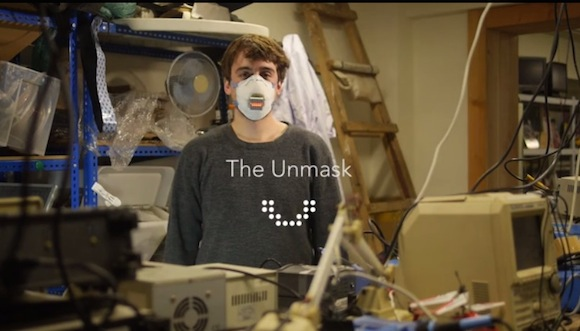face_mask: (231, 57, 279, 119)
